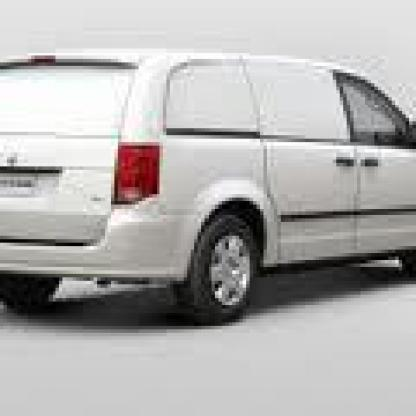Vehicle: (4, 56, 412, 330)
